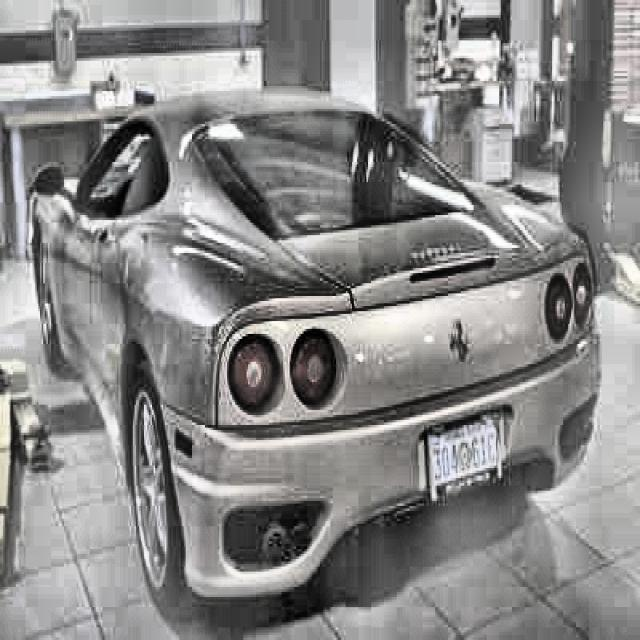license_plate: (427, 411, 504, 498)
